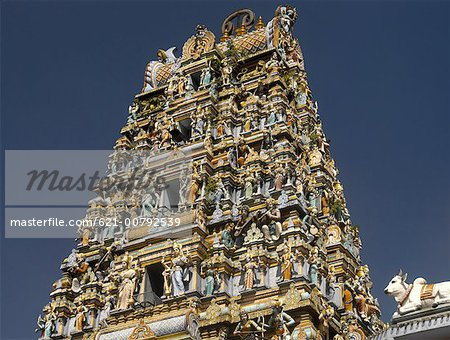Hindu Temple: (86, 15, 358, 333)
